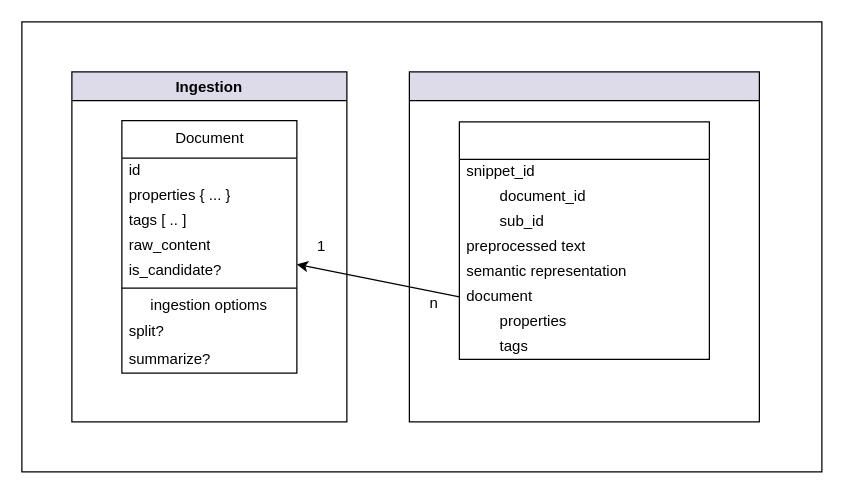
This 844x494 diagram has some shape labels left out. Each missing label, with the box of its shape:
Search System: (408, 71, 759, 422)
Snippet (Search Target): (458, 121, 709, 359)
